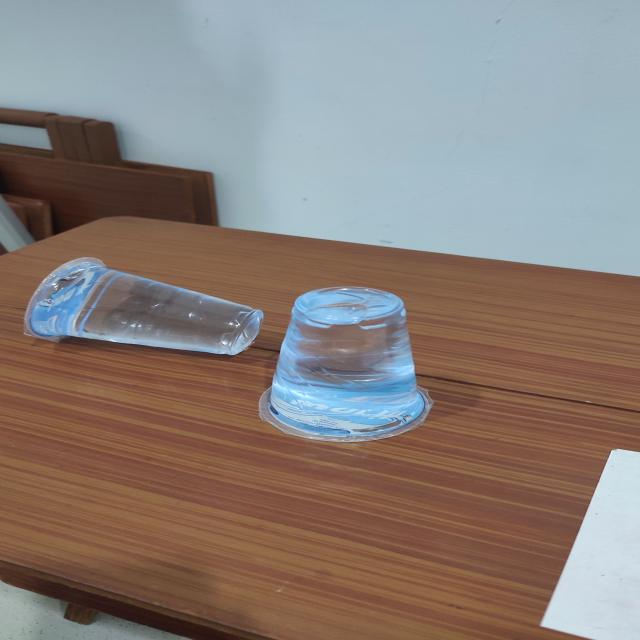air gelas: (223, 283, 478, 451), (14, 258, 264, 361)
